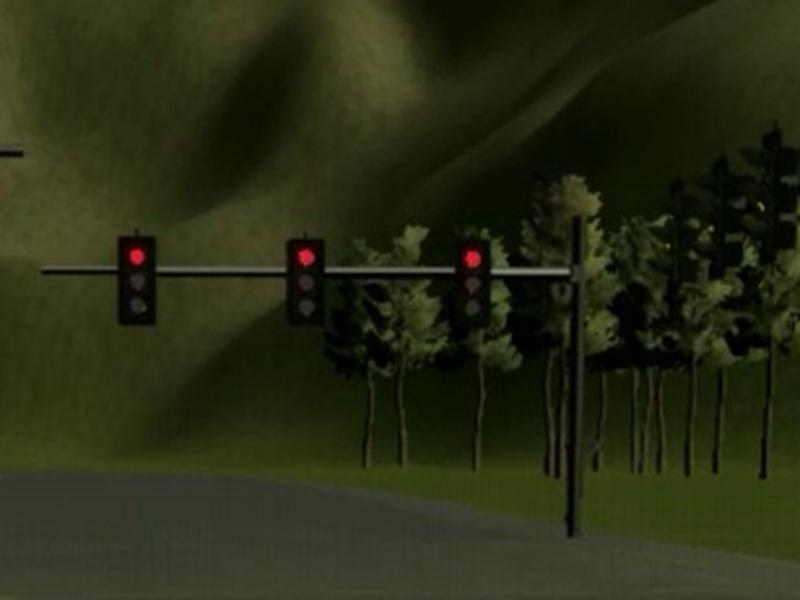Red: (117, 237, 156, 325), (452, 242, 489, 327), (286, 238, 322, 323)
